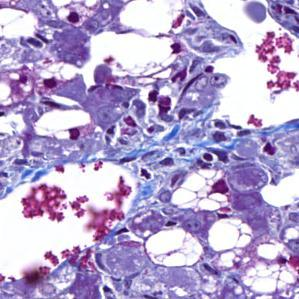ballooning: (233, 238, 295, 294), (167, 167, 233, 219), (143, 226, 206, 269), (204, 213, 255, 256)
